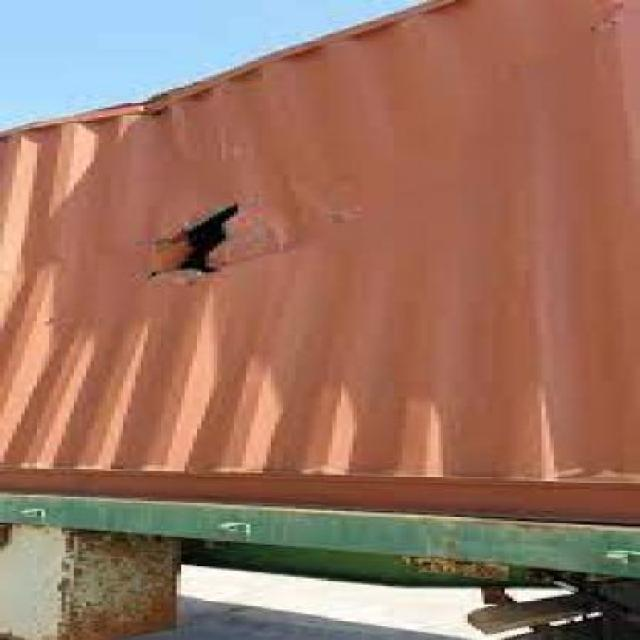hole: (134, 198, 251, 289)
